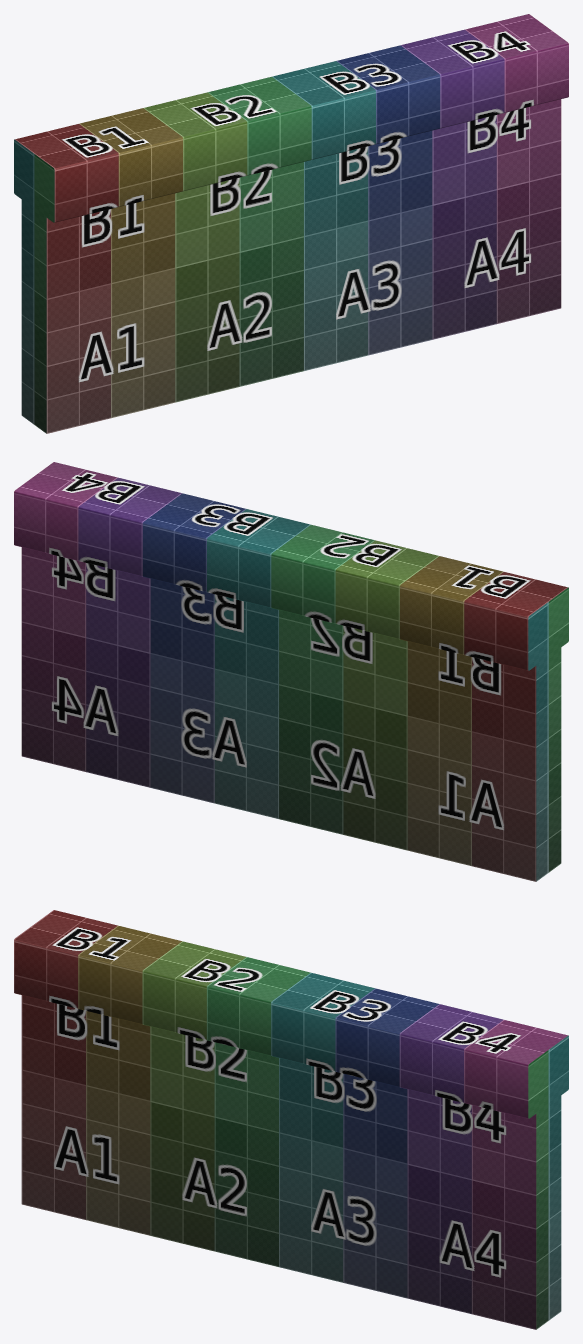
File: wall_rim.glb
3 views of the same model, one above another, from view 1: azimuth 30°, elevation 25°; view 2: azimuth 150°, elevation 25°; view 3: azimuth 330°, elevation 25° (orthographic).
Visible parts, largest first — view 1: Cube.002; view 2: Cube.002; view 3: Cube.002.
Boxes of the visible parts, x1,y1,x2,y2 form: Cube.002: [14, 14, 568, 433]; Cube.002: [14, 462, 568, 881]; Cube.002: [14, 910, 568, 1329].
Bounding box in the file's own units: 4 × 2.01 × 0.5465.
1 material, 1 textured.
